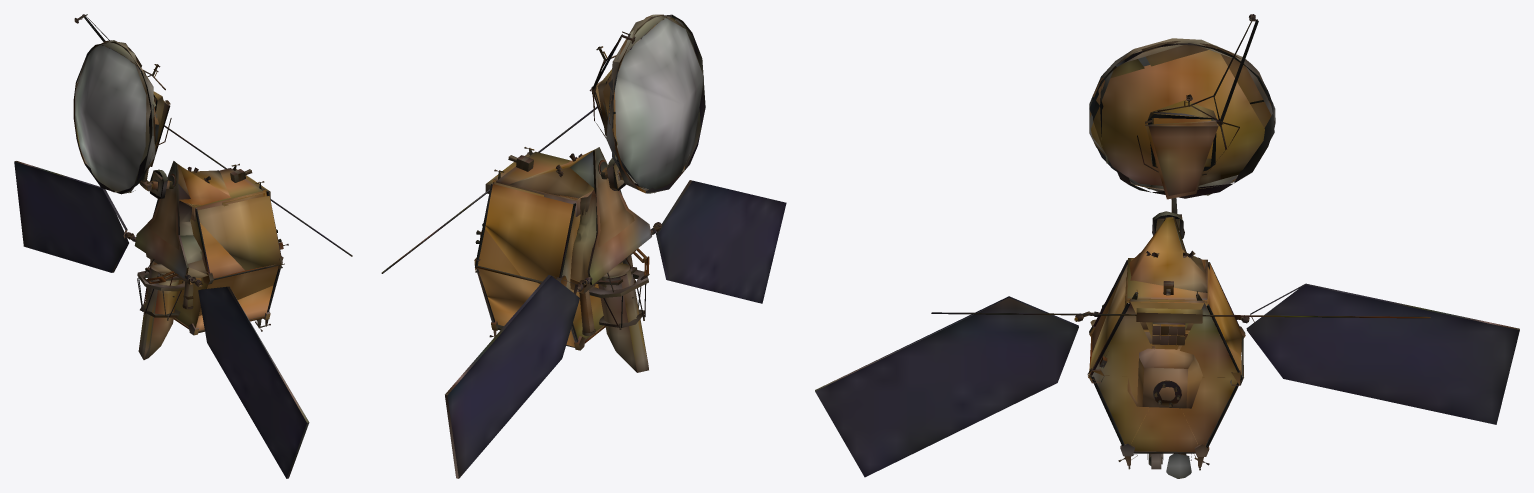
Rendered from space-mro.glb.
3 views of the same model, side by side, from view 1: azimuth 30°, elevation 25°; view 2: azimuth 150°, elevation 25°; view 3: azimuth 270°, elevation 25° (orthographic). The views are drawn at different scales.
Parts seen in each view (by area): view 1: mro_proxy7, mro_proxy5, mro_proxy3, mro_proxy2, mro_proxy6; view 2: mro_proxy7, mro_proxy5, mro_proxy3, mro_proxy2, mro_proxy6; view 3: mro_proxy7, mro_proxy6, mro_proxy5.
Part boxes in pixels (left/top/right/bottom): mro_proxy7: left=14, top=14, right=352, bottom=478; mro_proxy5: left=134, top=161, right=213, bottom=335; mro_proxy3: left=129, top=173, right=193, bottom=359; mro_proxy2: left=137, top=259, right=181, bottom=320; mro_proxy6: left=230, top=163, right=284, bottom=328; mro_proxy7: left=381, top=14, right=786, bottom=478; mro_proxy5: left=476, top=147, right=661, bottom=350; mro_proxy3: left=582, top=160, right=658, bottom=372; mro_proxy2: left=600, top=248, right=649, bottom=329; mro_proxy6: left=474, top=147, right=534, bottom=337; mro_proxy7: left=815, top=14, right=1519, bottom=477; mro_proxy6: left=1087, top=281, right=1243, bottom=470; mro_proxy5: left=1083, top=216, right=1245, bottom=478.
Bounding box in the file's own units: 32.37 × 61 × 89.74.
Materials: 2 (2 with a texture image).
